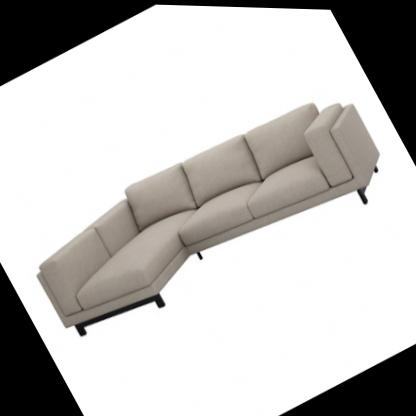Sofa: (14, 62, 400, 362)
